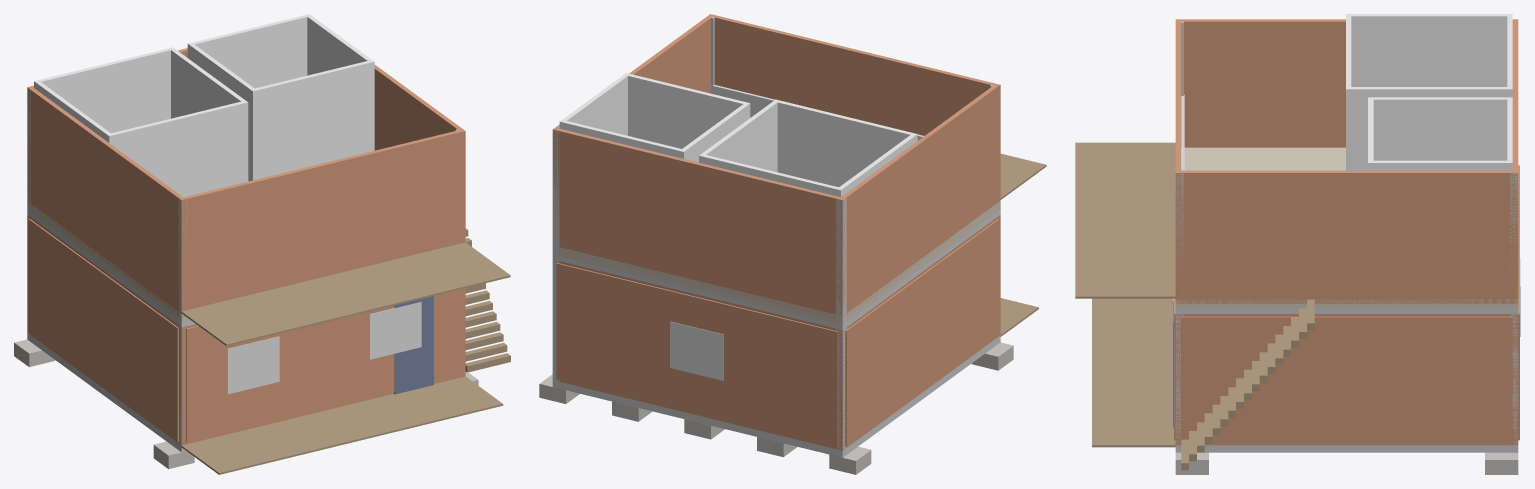
File: Duplex-20-Base-Terracotta-LOD0.glb
3 views of the same model, side by side, from view 1: azimuth 30°, elevation 25°; view 2: azimuth 150°, elevation 25°; view 3: azimuth 270°, elevation 25° (orthographic). The views are drawn at different scales.
Visible parts, largest first — view 1: ExteriorShellUpper, ExteriorPanelsStandard, StudyUpper, BedroomUpper, BalconyUpper, BalconyGround, WindowsStandard, StaircaseExternal, ExteriorShell, EntryDoor, FoundationBlocks, FloorUpper (+3 smaller); view 2: ExteriorShellUpper, ExteriorPanelsStandard, BedroomUpper, StudyUpper, FloorUpper, VerticalStructure, FoundationBlocks, BaseFrame, ExteriorShell, WindowsStandard, TopFrame, BalconyUpper (+2 smaller); view 3: ExteriorShellUpper, ExteriorPanelsStandard, BalconyUpper, BedroomUpper, BalconyGround, StudyUpper, FloorUpper, StaircaseExternal, ExteriorShell, BaseFrame, VerticalStructure, TopFrame (+1 smaller).
Boxes of the visible parts, x1,y1,x2,y2 form: ExteriorShellUpper: [27, 48, 465, 317]; ExteriorPanelsStandard: [28, 218, 461, 442]; StudyUpper: [187, 14, 374, 181]; BedroomUpper: [34, 47, 248, 196]; BalconyUpper: [181, 242, 510, 346]; BalconyGround: [181, 376, 503, 474]; WindowsStandard: [227, 302, 421, 394]; StaircaseExternal: [465, 228, 510, 372]; ExteriorShell: [27, 215, 465, 445]; EntryDoor: [394, 296, 433, 394]; FoundationBlocks: [14, 339, 478, 469]; FloorUpper: [27, 201, 190, 322]; ExteriorShellUpper: [552, 14, 1000, 318]; ExteriorPanelsStandard: [556, 219, 999, 447]; BedroomUpper: [699, 99, 917, 197]; StudyUpper: [559, 73, 750, 162]; FloorUpper: [558, 201, 1000, 325]; VerticalStructure: [552, 17, 998, 449]; FoundationBlocks: [539, 342, 1013, 474]; BaseFrame: [552, 335, 1000, 457]; ExteriorShell: [556, 215, 1000, 450]; WindowsStandard: [670, 321, 723, 380]; TopFrame: [555, 210, 1000, 329]; BalconyUpper: [1000, 153, 1046, 199]; ExteriorShellUpper: [1175, 19, 1518, 303]; ExteriorPanelsStandard: [1174, 165, 1519, 443]; BalconyUpper: [1075, 142, 1175, 298]; BedroomUpper: [1346, 14, 1512, 170]; BalconyGround: [1092, 298, 1175, 447]; StudyUpper: [1368, 97, 1512, 170]; FloorUpper: [1175, 147, 1518, 308]; StaircaseExternal: [1181, 299, 1314, 470]; ExteriorShell: [1175, 314, 1518, 445]; BaseFrame: [1175, 445, 1518, 452]; VerticalStructure: [1175, 21, 1518, 445]; TopFrame: [1175, 309, 1518, 313].
Size of the model in its own units: 7.94 by 6 by 8.
